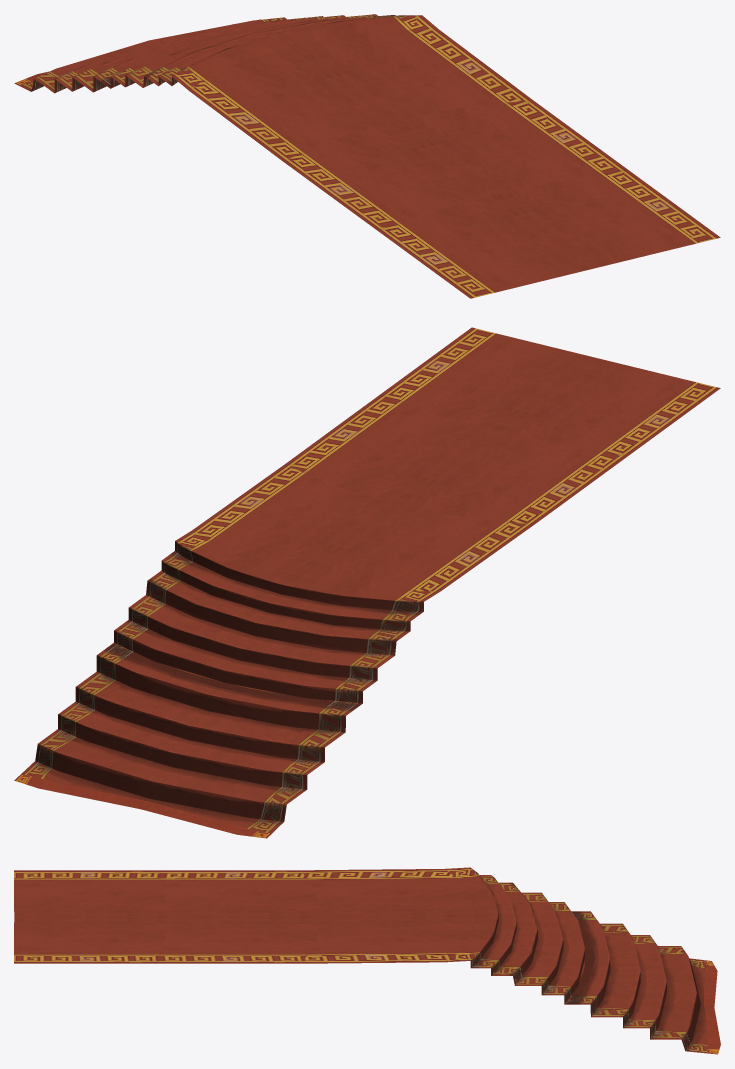
Rendered from Footcloth01_Maincity_001.FBX.
3 views of the same model, one above another, from view 1: azimuth 30°, elevation 25°; view 2: azimuth 150°, elevation 25°; view 3: azimuth 270°, elevation 25° (orthographic). The views are drawn at different scales.
Visible parts, largest first — view 1: Footcloth01_Maincity_001; view 2: Footcloth01_Maincity_001; view 3: Footcloth01_Maincity_001.
Boxes of the visible parts, x1,y1,x2,y2 form: Footcloth01_Maincity_001: [14, 14, 720, 298]; Footcloth01_Maincity_001: [14, 327, 720, 838]; Footcloth01_Maincity_001: [14, 867, 720, 1054].
Bounding box in the file's own units: 414 × 193 × 1324.
1 material, 1 textured.
